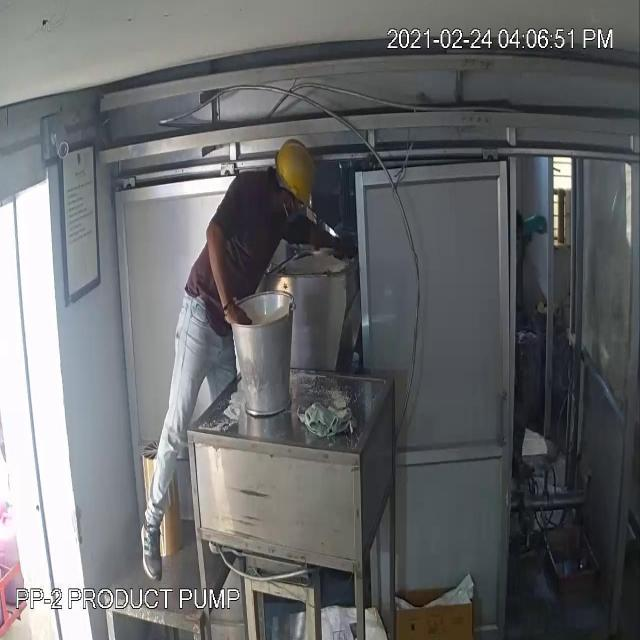hat: (269, 123, 322, 215)
